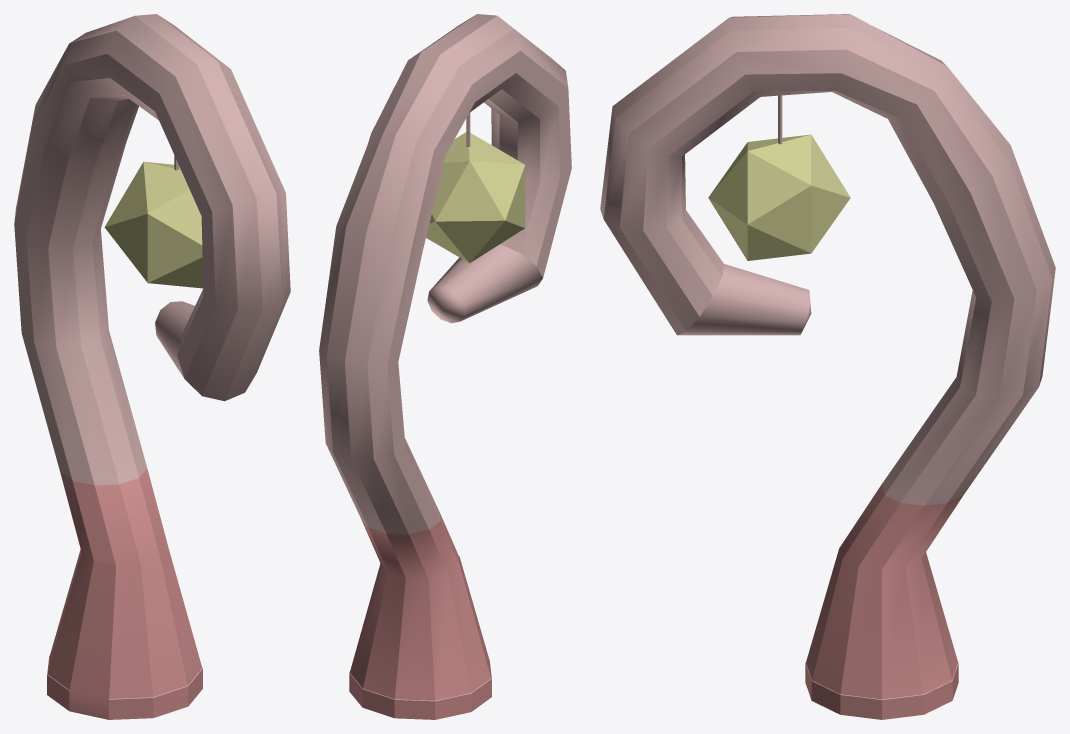
Rendered from lamp.fbx.
The picture shows the model from 3 angles, left to right: view 1: azimuth 30°, elevation 25°; view 2: azimuth 150°, elevation 25°; view 3: azimuth 270°, elevation 25°; orthographic projection. The views are drawn at different scales.
Parts seen in each view (by area): view 1: lamp, lightbulb; view 2: lamp, lightbulb; view 3: lamp, lightbulb.
Boxes of the visible parts, box(x1,y1,x2,y2) form: lamp: box(14, 14, 290, 719); lightbulb: box(104, 161, 203, 288); lamp: box(319, 14, 571, 719); lightbulb: box(426, 132, 525, 263); lamp: box(600, 14, 1055, 719); lightbulb: box(708, 134, 850, 260).
Size of the model in its own units: 5.01 by 24.53 by 15.02.
